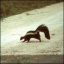skunk: (19, 24, 51, 42)
